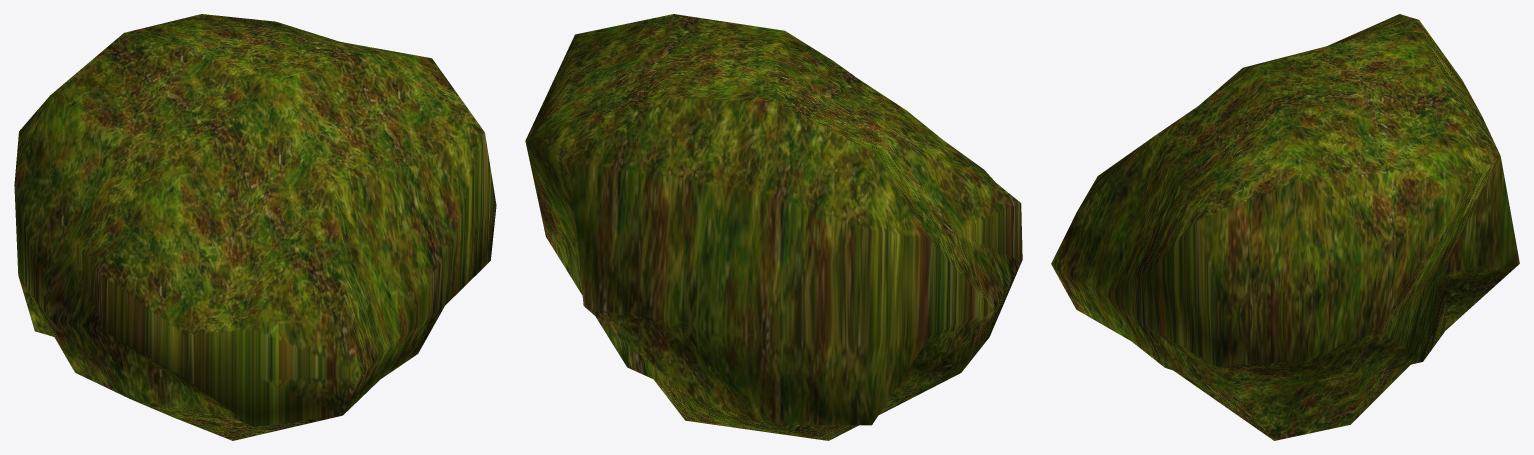
Rendered from TROLLHOLE02_BOX331.fbx.
3 views of the same model, side by side, from view 1: azimuth 30°, elevation 25°; view 2: azimuth 150°, elevation 25°; view 3: azimuth 270°, elevation 25° (orthographic). The views are drawn at different scales.
Parts seen in each view (by area): view 1: TROLLHOLE02_BOX331; view 2: TROLLHOLE02_BOX331; view 3: TROLLHOLE02_BOX331.
Boxes of the visible parts, left/top/right/bottom form: TROLLHOLE02_BOX331: left=14, top=14, right=496, bottom=440; TROLLHOLE02_BOX331: left=525, top=14, right=1022, bottom=440; TROLLHOLE02_BOX331: left=1051, top=14, right=1519, bottom=440.
Size of the model in its own units: 78284 by 62302 by 76249.
Materials: 1 (1 with a texture image).
